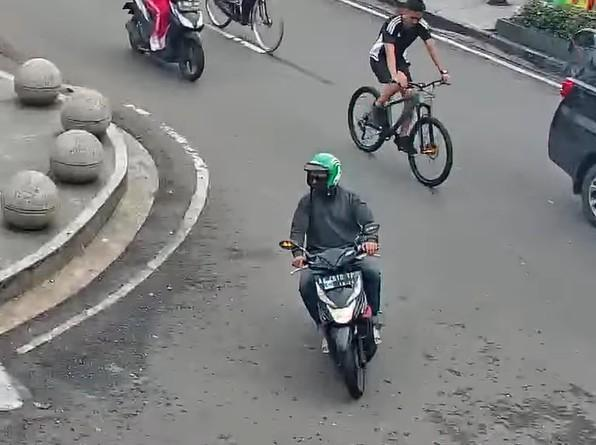Helmet: (304, 153, 341, 188)
Number Plate: (318, 272, 354, 290)
Rearview Mirror: (362, 223, 379, 234), (279, 240, 297, 249)
